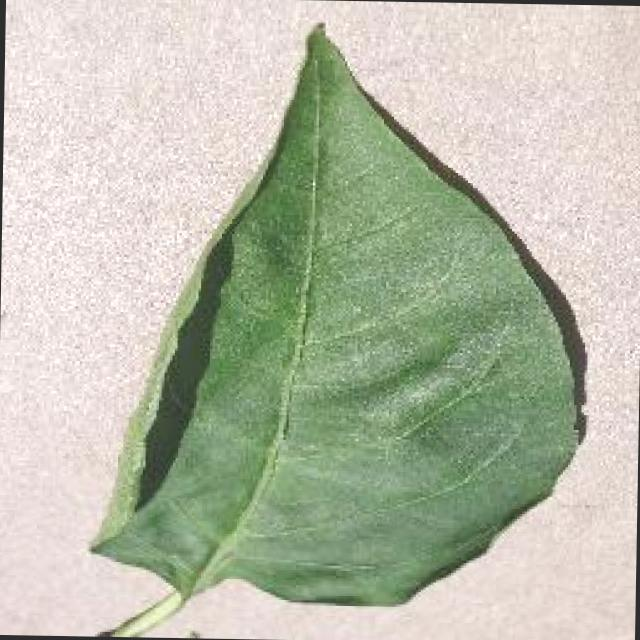Leaf: (100, 11, 605, 640)
